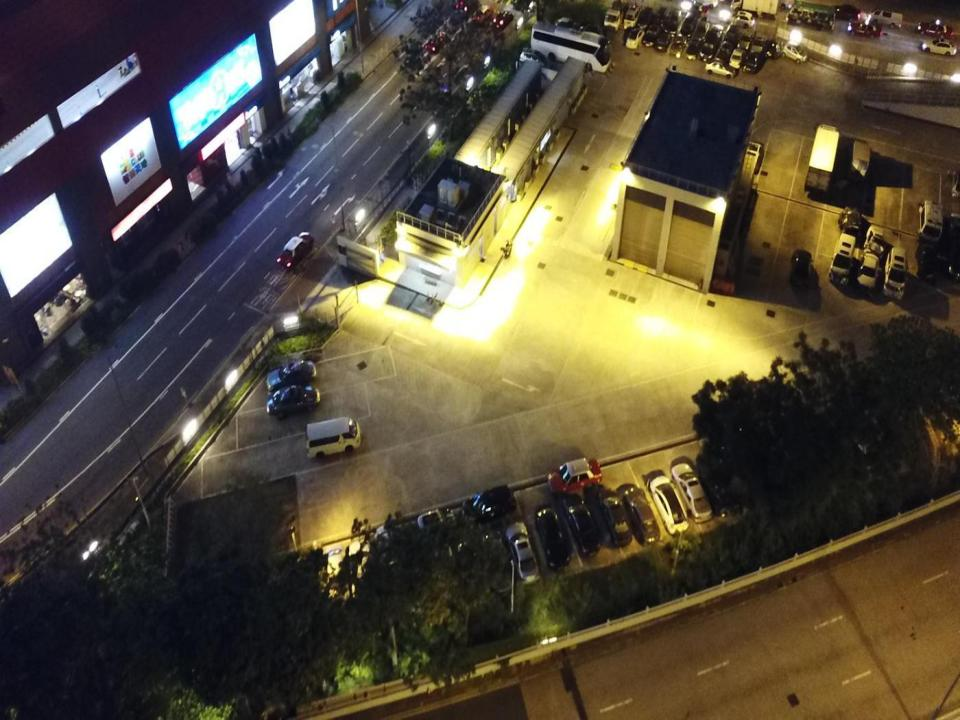car: (696, 451, 742, 518), (672, 462, 712, 523), (652, 475, 689, 539), (565, 494, 603, 556), (535, 504, 570, 571), (548, 456, 603, 496), (624, 485, 660, 546), (462, 485, 517, 524), (267, 384, 321, 421), (506, 522, 539, 582), (265, 358, 319, 394), (600, 491, 634, 548), (785, 0, 836, 32), (277, 230, 314, 272), (918, 200, 943, 245), (374, 522, 413, 546), (867, 3, 904, 28), (858, 252, 879, 296), (790, 249, 813, 289), (418, 508, 455, 532), (948, 212, 960, 283), (840, 204, 863, 239), (916, 244, 937, 282), (864, 225, 884, 261), (920, 36, 957, 55), (918, 19, 953, 39), (704, 58, 737, 78), (781, 43, 808, 64), (848, 21, 882, 37), (827, 5, 861, 21), (519, 49, 546, 68), (424, 30, 446, 53), (727, 11, 755, 28), (472, 4, 493, 26), (578, 25, 608, 40), (492, 10, 514, 30), (680, 2, 709, 16), (554, 16, 579, 32), (708, 20, 725, 43), (728, 47, 745, 70), (455, 0, 479, 16), (625, 28, 644, 48), (724, 24, 741, 46), (693, 18, 710, 40), (714, 43, 731, 65), (685, 36, 700, 60), (744, 51, 760, 73), (738, 28, 754, 50), (680, 16, 696, 38), (656, 32, 672, 54), (701, 39, 716, 62), (644, 24, 659, 46), (670, 34, 684, 56), (750, 35, 766, 54), (765, 40, 780, 60)
truck: (540, 25, 611, 73), (804, 122, 839, 193), (603, 0, 635, 32), (729, 0, 779, 18), (849, 141, 871, 181)
van: (306, 416, 361, 458), (829, 233, 856, 288), (884, 246, 908, 300), (663, 8, 682, 32), (650, 6, 668, 30), (638, 4, 656, 28), (623, 5, 640, 27)
